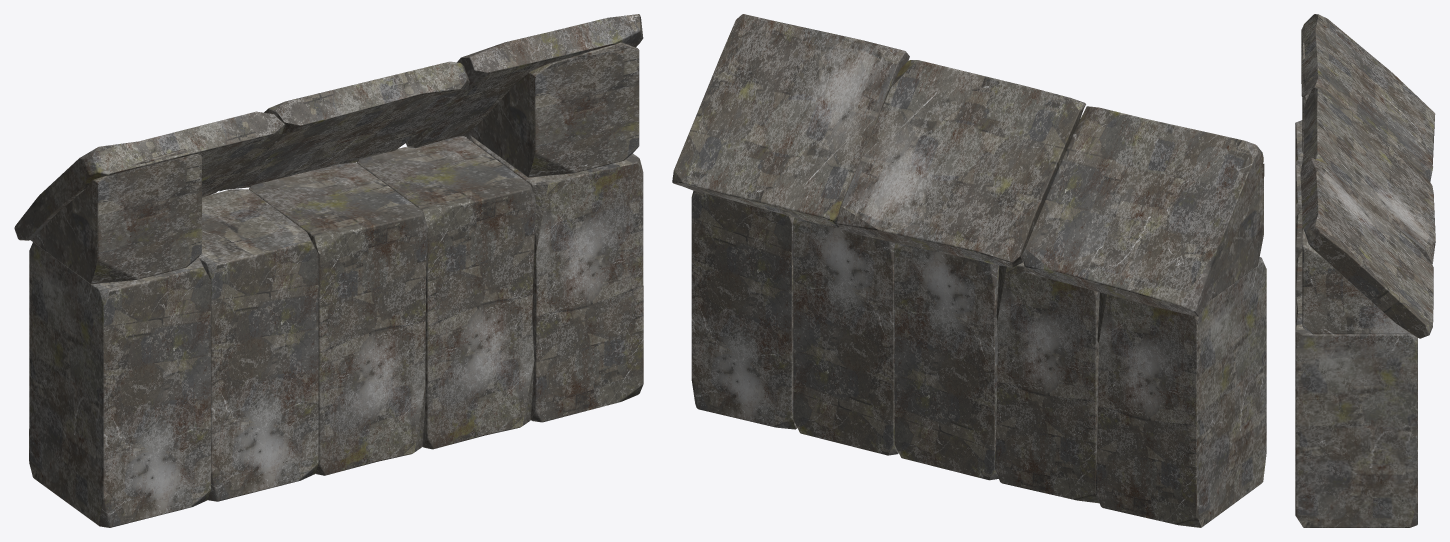
File: SM_Stair_Support_2M.fbx
3 views of the same model, side by side, from view 1: azimuth 30°, elevation 25°; view 2: azimuth 150°, elevation 25°; view 3: azimuth 270°, elevation 25° (orthographic). The views are drawn at different scales.
Visible parts, largest first — view 1: SM_Stair_Support_2M_LOD0; view 2: SM_Stair_Support_2M_LOD0; view 3: SM_Stair_Support_2M_LOD0.
Part boxes in pixels (bbox=[...]): SM_Stair_Support_2M_LOD0: bbox=[14, 14, 643, 527]; SM_Stair_Support_2M_LOD0: bbox=[672, 14, 1266, 527]; SM_Stair_Support_2M_LOD0: bbox=[1295, 14, 1435, 527].
Bounding box in the file's own units: 210 × 56.02 × 135.
